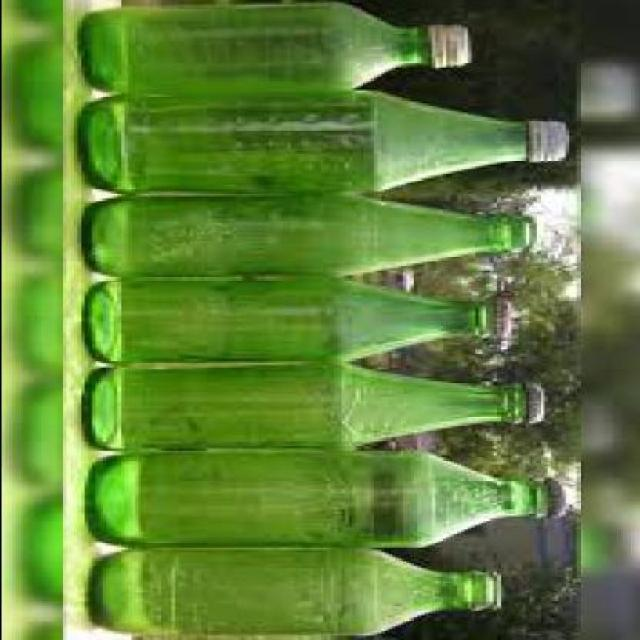GLASS: (83, 450, 549, 550), (80, 92, 528, 194), (84, 194, 524, 280), (88, 368, 528, 450), (87, 280, 496, 366), (94, 552, 495, 638), (79, 5, 430, 92)
METAL: (438, 26, 478, 72), (536, 124, 576, 164), (553, 482, 572, 522), (528, 387, 546, 424), (498, 302, 514, 340)
